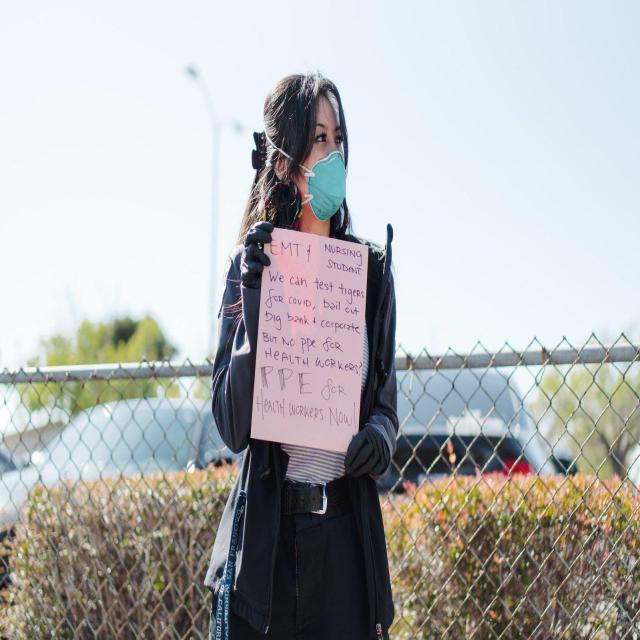Gloves: (346, 428, 380, 482), (243, 218, 272, 281)
Mask: (308, 151, 348, 222)
